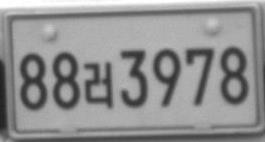3: (119, 49, 149, 108)
7: (185, 47, 214, 106)
8: (219, 45, 250, 105), (51, 51, 81, 110), (18, 51, 47, 111)
9: (152, 47, 181, 106)
러: (83, 61, 113, 108)
